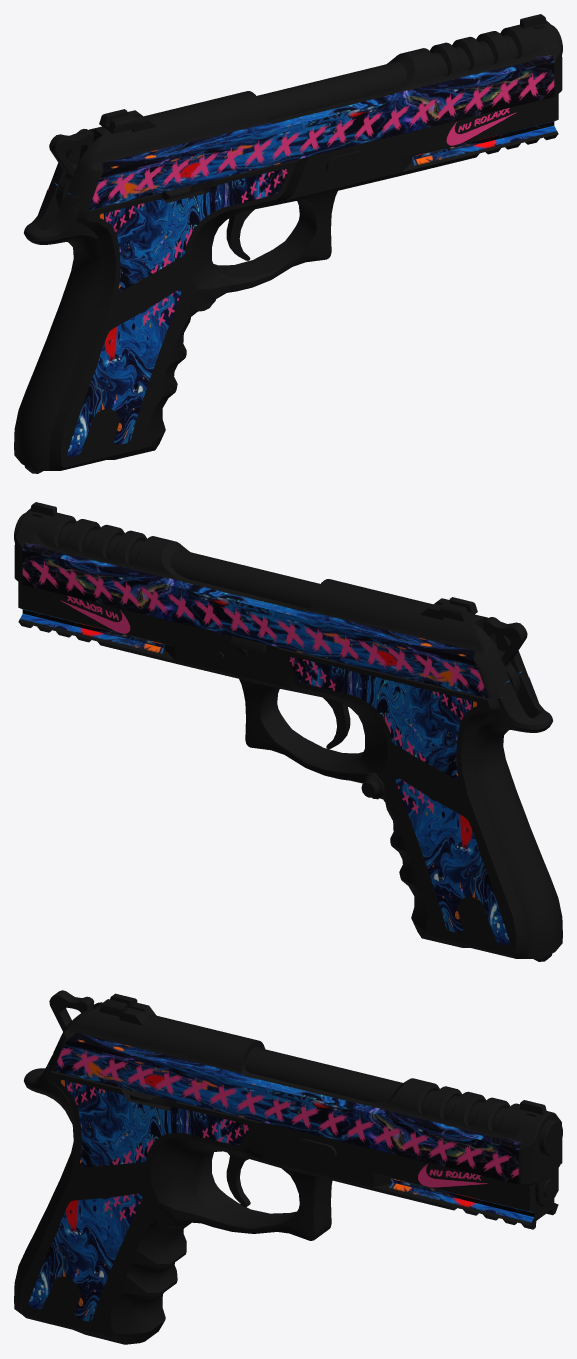
Rendered from pistolmk2_ao.glb.
The picture shows the model from 3 angles, top to bottom: view 1: azimuth 30°, elevation 25°; view 2: azimuth 150°, elevation 25°; view 3: azimuth 330°, elevation 25°; orthographic projection.
Parts seen in each view (by area): view 1: Gun_Root; view 2: Gun_Root; view 3: Gun_Root.
Boxes of the visible parts, x1,y1,x2,y2 form: Gun_Root: [14, 14, 562, 473]; Gun_Root: [14, 502, 562, 961]; Gun_Root: [14, 990, 562, 1344].
Size of the model in its own units: 0.2219 by 0.134 by 0.0318.
Materials: 1 (1 with a texture image).
